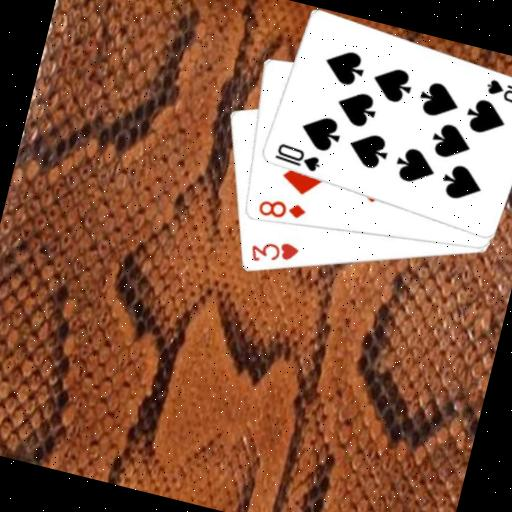10S: (270, 140, 325, 176), (480, 74, 512, 111)
3H: (245, 232, 302, 273)
8D: (254, 192, 309, 227)
